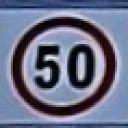speed_limit_50: (15, 17, 113, 115)
